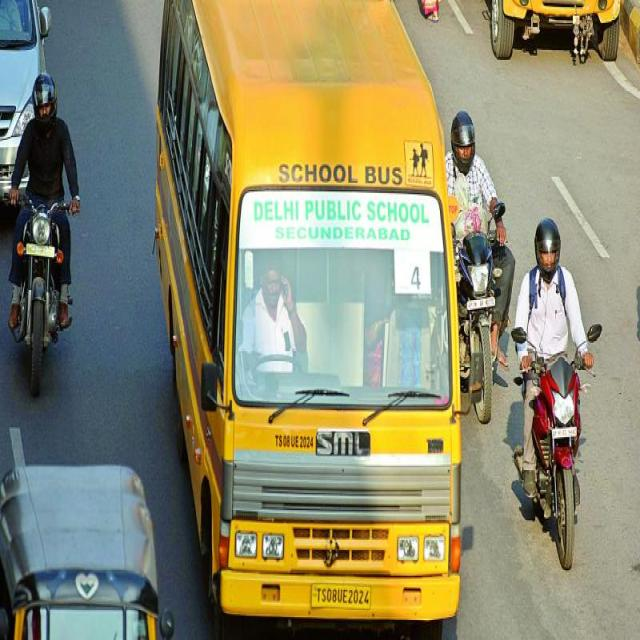bus: (156, 0, 461, 632)
motorcycle: (511, 219, 601, 569), (9, 71, 80, 395), (445, 112, 515, 423)
